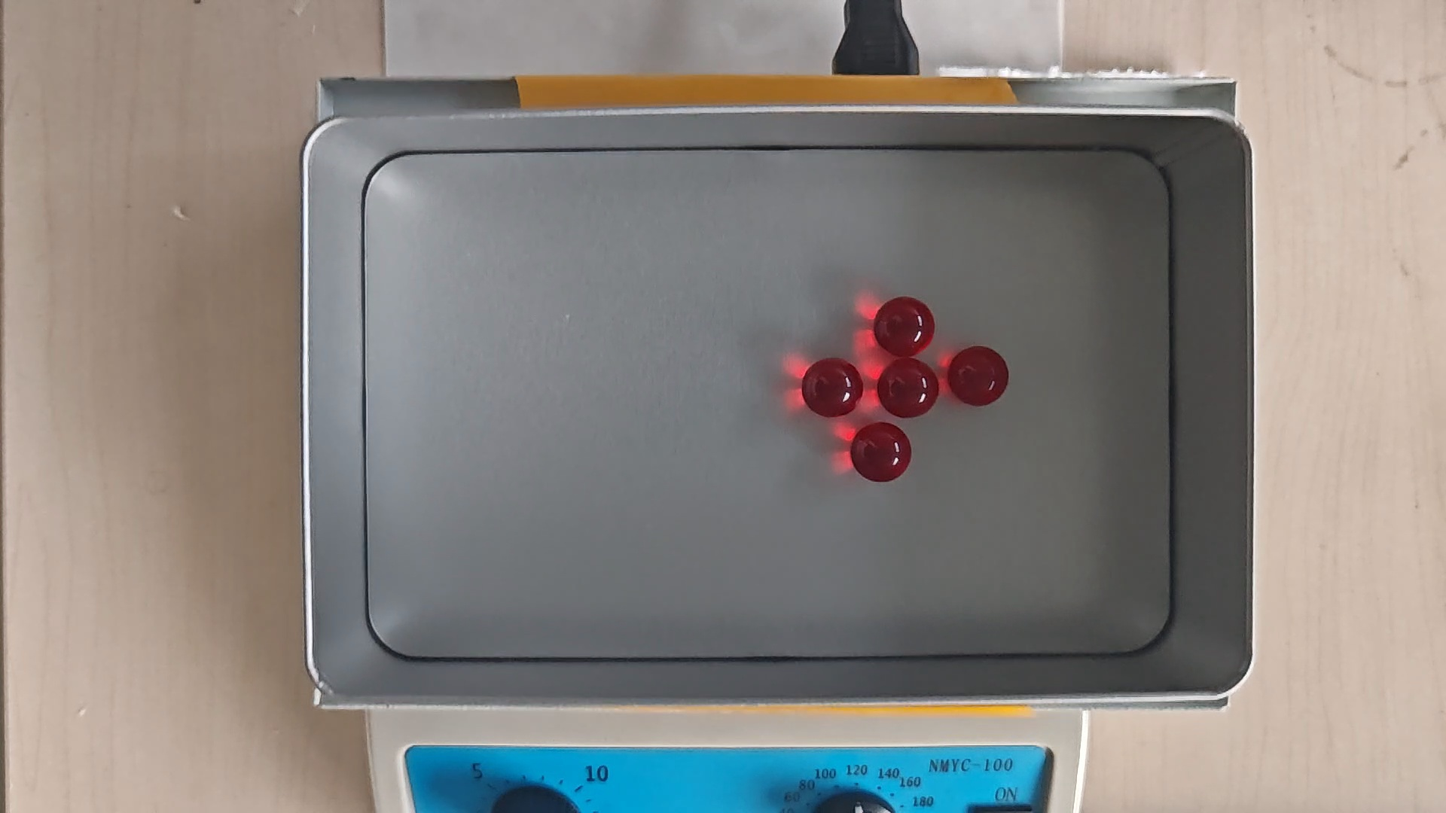ball: (801, 357, 863, 419), (877, 357, 938, 419), (947, 346, 1008, 407), (850, 423, 911, 483), (874, 296, 934, 356)
container: (361, 146, 1170, 656)
